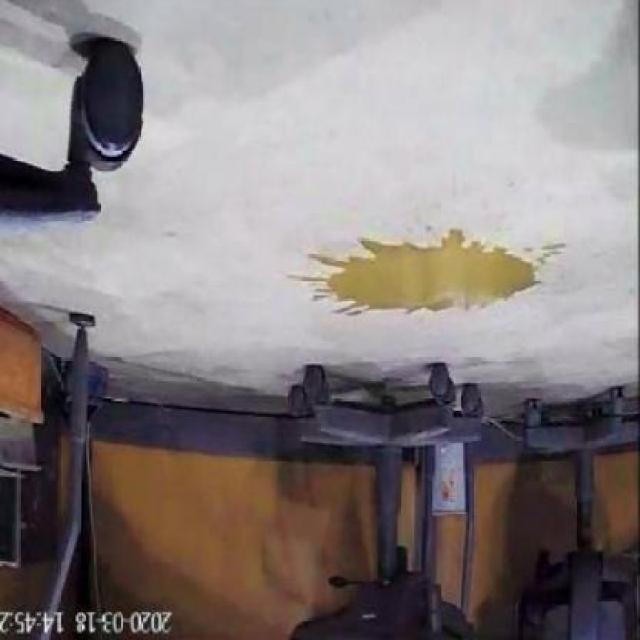spillage: (320, 228, 538, 310)
